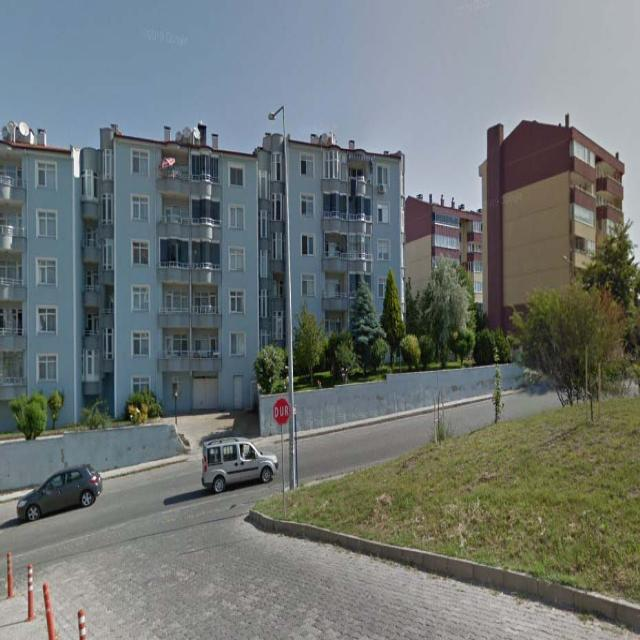dur: (274, 399, 292, 423)
